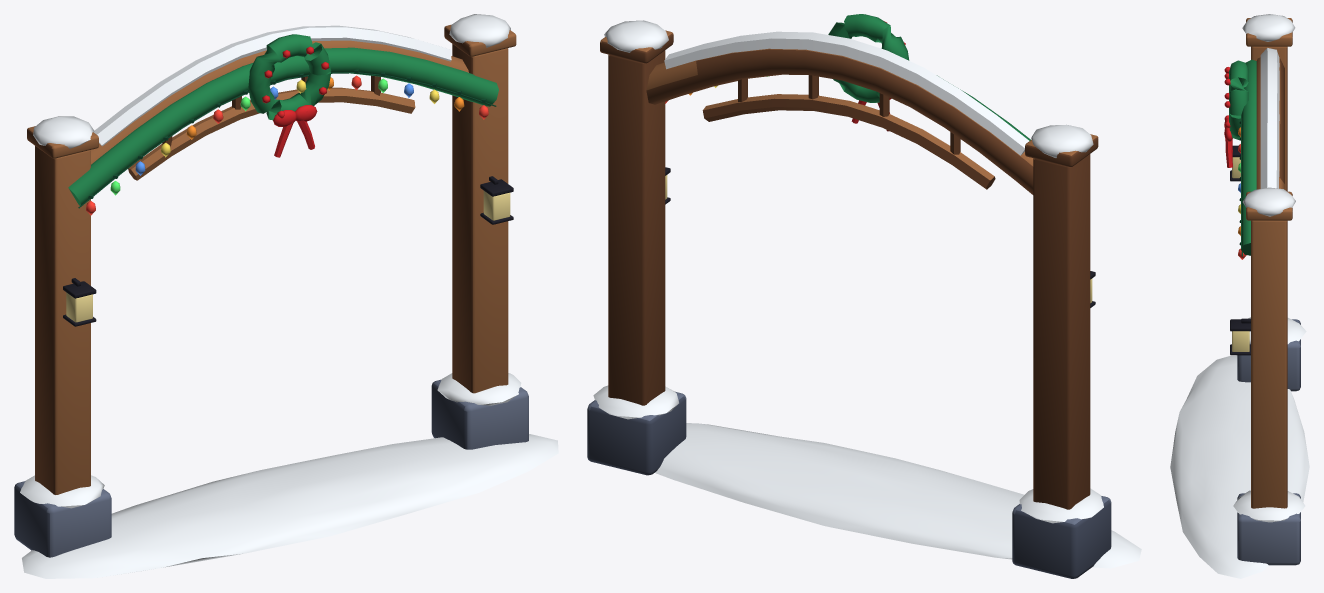
File: XmasGate.fbx
3 renders of one model, left to right at view 1: azimuth 30°, elevation 25°; view 2: azimuth 150°, elevation 25°; view 3: azimuth 270°, elevation 25°, orthographic. The views are drawn at different scales.
Parts seen in each view (by area): view 1: XmasGate; view 2: XmasGate; view 3: XmasGate.
Part boxes in pixels (x1=…): XmasGate: x1=14, y1=14, x2=558, y2=578; XmasGate: x1=587, y1=14, x2=1141, y2=578; XmasGate: x1=1170, y1=14, x2=1309, y2=578.
Size of the model in its own units: 10.78 by 9.06 by 2.85.
Materials: 2 (2 with a texture image).
